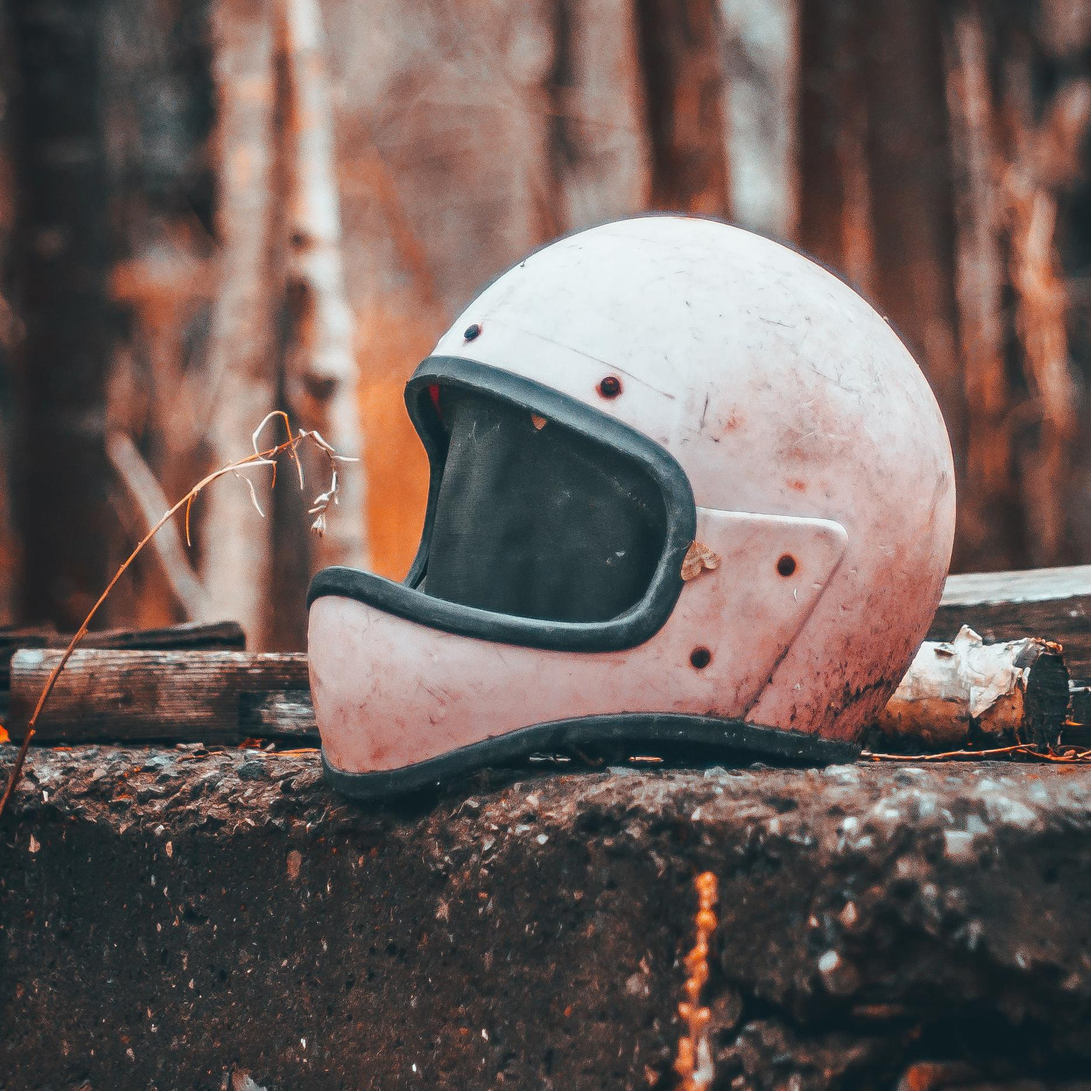helmet: (303, 211, 960, 809)
